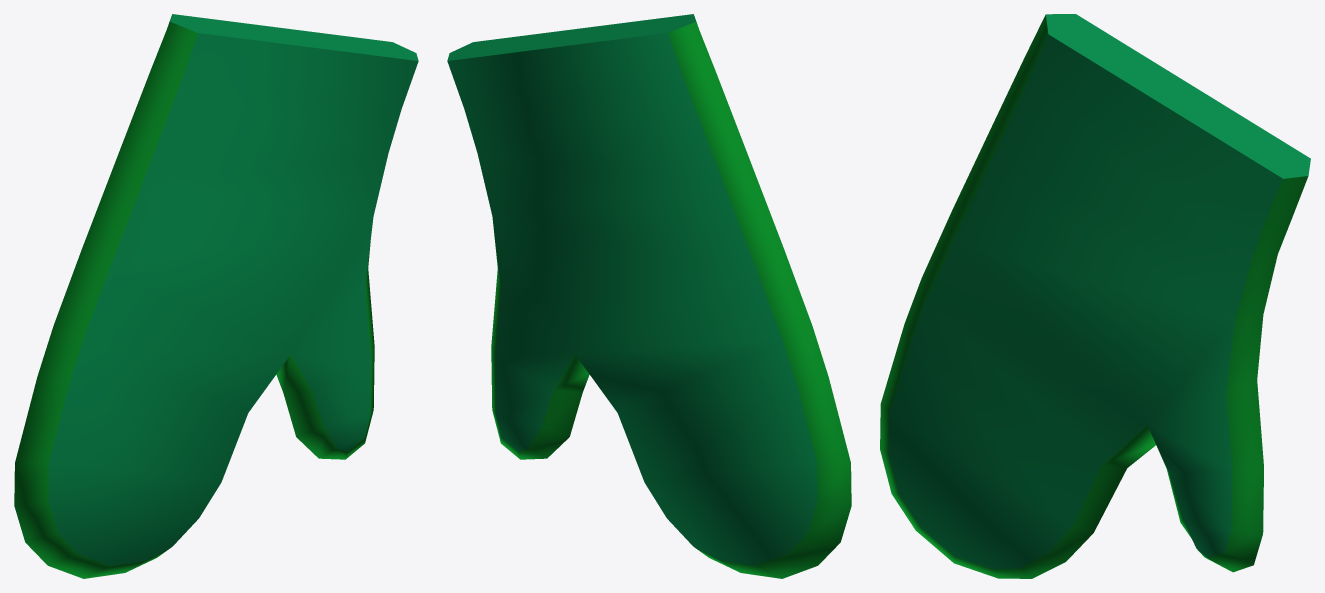
File: Kitchen_potholder_03.fbx
3 renders of one model, left to right at view 1: azimuth 30°, elevation 25°; view 2: azimuth 150°, elevation 25°; view 3: azimuth 330°, elevation 25°, orthographic. The views are drawn at different scales.
Parts seen in each view (by area): view 1: Kitchen_potholder_03; view 2: Kitchen_potholder_03; view 3: Kitchen_potholder_03.
Boxes of the visible parts, x1,y1,x2,y2 form: Kitchen_potholder_03: (14, 14, 418, 578); Kitchen_potholder_03: (447, 14, 851, 578); Kitchen_potholder_03: (880, 14, 1310, 578).
Size of the model in its own units: 64.61 by 7.22 by 82.97.
